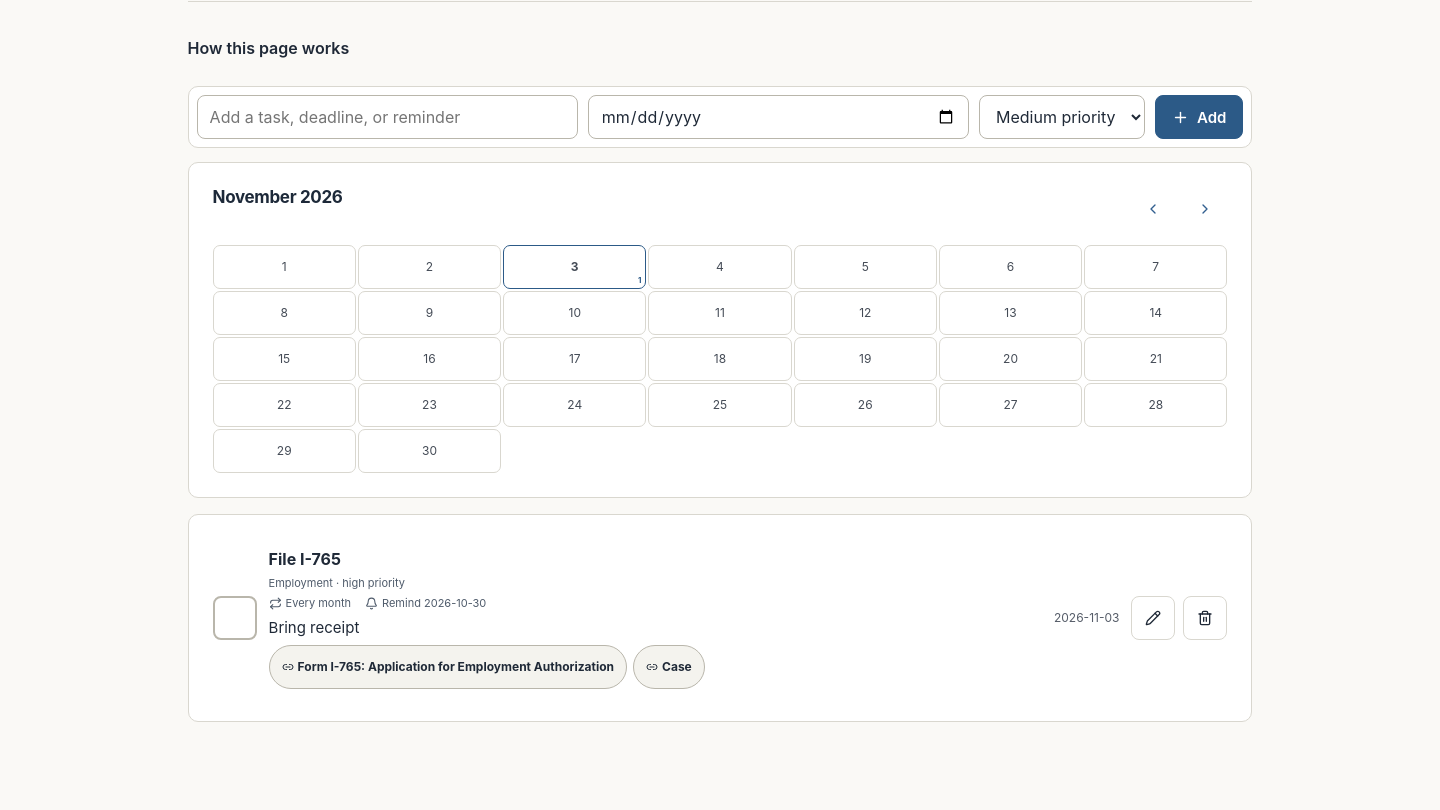
Test: finishing a repeating task › tells the student when the next repeat was added
(page scrolled)
Click the button named "Complete File I-765": click(235, 618) x1=213 y1=596 x2=257 y2=640
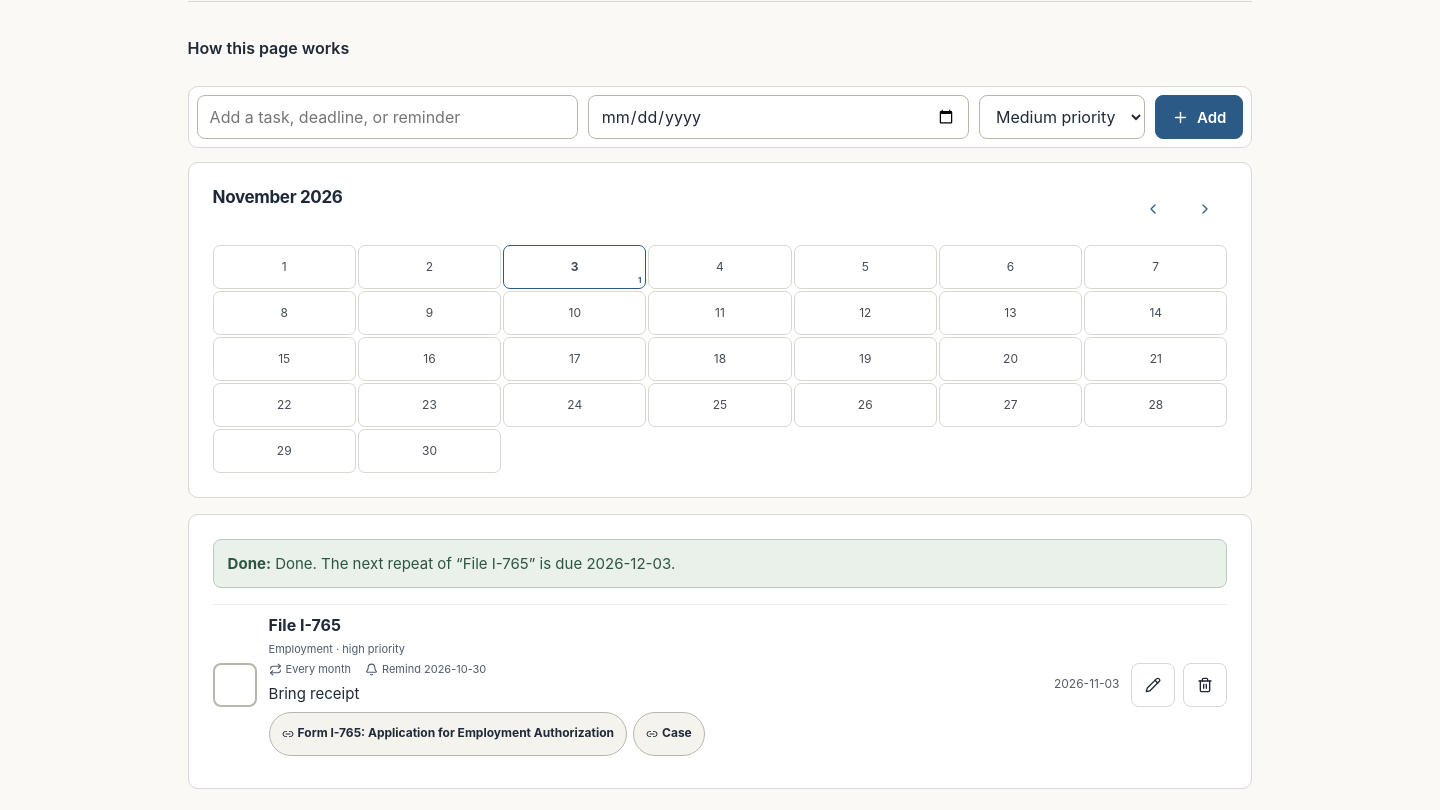
Result: the message shows "next repeat of “File I-765” is due 2026-12-03" at x1=275 y1=554 x2=675 y2=573
